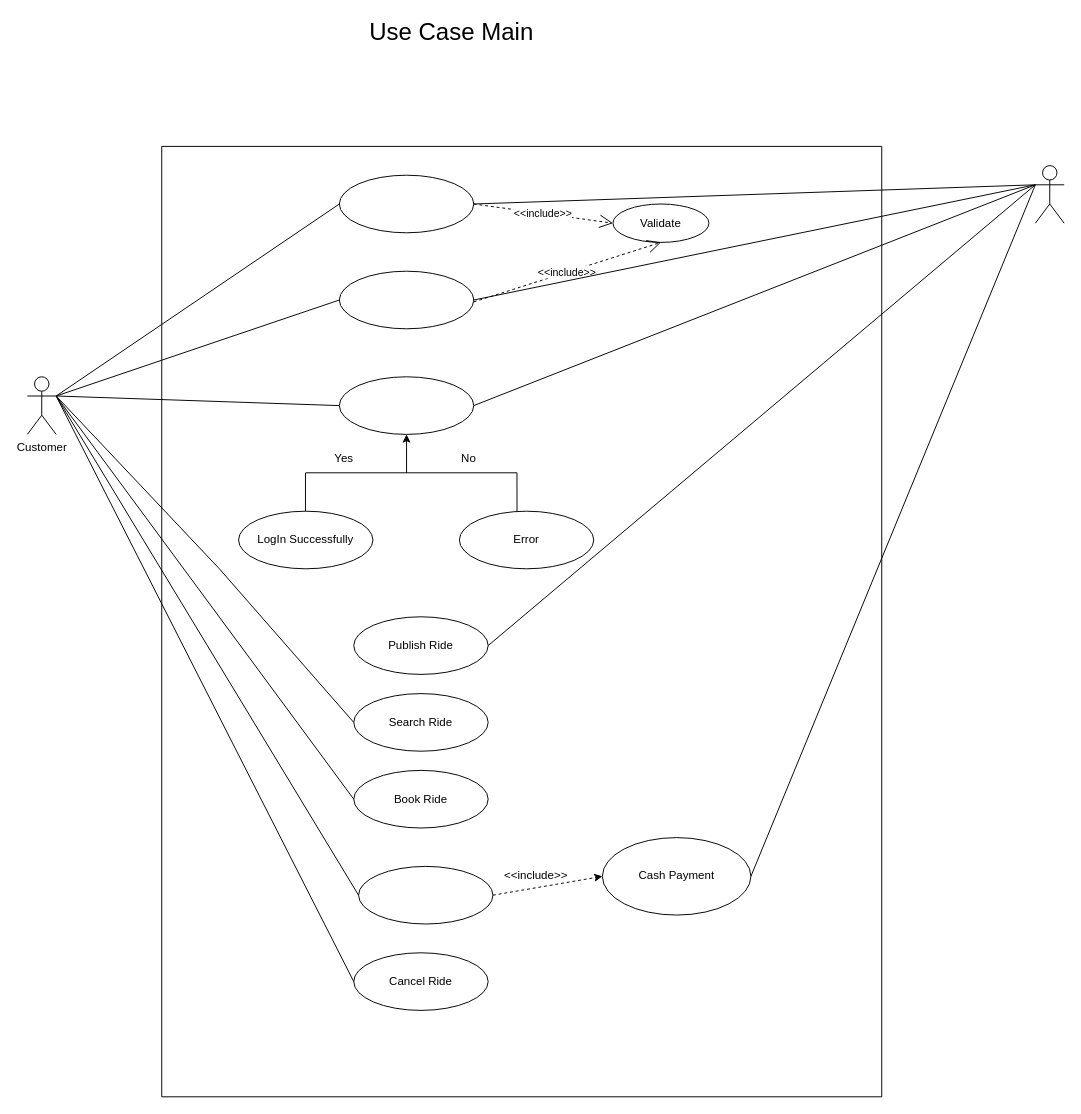
This 1081x1114 diagram has some shape labels left out. Here are the shapes that lost their labels. From the top down, the centre of each, then its label:
At (x=406, y=203): "Registration".
At (x=1049, y=194): "Driver".
At (x=406, y=299): "Login".
At (x=406, y=405): "DashBoard".
At (x=425, y=894): "Payment".
